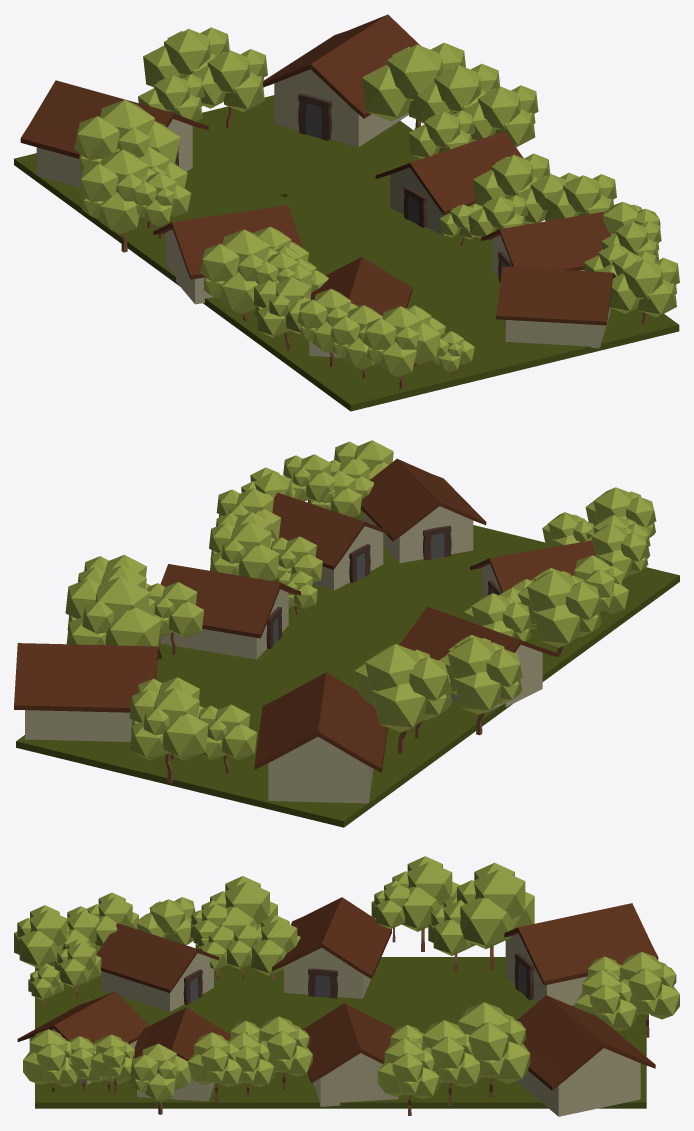
The model's file is saha1.fbx.
3 views of the same model, one above another, from view 1: azimuth 30°, elevation 25°; view 2: azimuth 150°, elevation 25°; view 3: azimuth 270°, elevation 25° (orthographic). The views are drawn at different scales.
Visible parts, largest first — view 1: Cube, Cube.007, Cube.003, Cube.006, Cube.001, Cube.002, Cube.005, Icosphere.031, Icosphere.032, Icosphere.024, Icosphere.021, Icosphere.011 (+25 smaller); view 2: Cube, Cube.006, Cube.007, Cube.003, Cube.001, Icosphere.032, Cube.002, Icosphere.031, Icosphere.028, Icosphere.024, Icosphere.021, Cube.005 (+22 smaller); view 3: Cube, Cube.007, Cube.006, Cube.005, Cube.004, Cube.001, Icosphere.032, Icosphere.031, Cube.003, Cube.002, Icosphere.028, Icosphere.024 (+25 smaller).
Part boxes in pixels (x1,y1,x2,y2): Cube: [14, 95, 679, 411]; Cube.007: [263, 14, 420, 147]; Cube.003: [496, 266, 616, 348]; Cube.006: [20, 80, 208, 187]; Cube.001: [375, 131, 523, 236]; Cube.002: [481, 212, 611, 282]; Cube.005: [153, 205, 302, 304]; Icosphere.031: [362, 42, 465, 128]; Icosphere.032: [74, 100, 180, 171]; Icosphere.024: [78, 149, 157, 252]; Icosphere.021: [200, 229, 279, 321]; Icosphere.011: [363, 306, 441, 389]; Cube: [16, 509, 679, 827]; Cube.006: [254, 672, 387, 803]; Cube.007: [14, 643, 161, 741]; Cube.003: [360, 458, 486, 563]; Cube.001: [160, 564, 300, 659]; Icosphere.032: [354, 644, 450, 753]; Cube.002: [272, 492, 393, 590]; Icosphere.031: [65, 576, 160, 646]; Icosphere.028: [129, 688, 208, 783]; Icosphere.024: [438, 637, 522, 735]; Icosphere.021: [517, 570, 601, 656]; Cube.005: [399, 606, 556, 712]; Cube: [35, 957, 646, 1108]; Cube.007: [516, 995, 655, 1116]; Cube.006: [504, 903, 658, 1005]; Cube.005: [272, 897, 391, 998]; Cube.004: [96, 923, 219, 1011]; Cube.001: [302, 1003, 398, 1106]; Icosphere.032: [457, 862, 534, 970]; Icosphere.031: [458, 1002, 530, 1097]; Cube.003: [17, 991, 148, 1084]; Cube.002: [133, 1007, 230, 1101]; Icosphere.028: [619, 951, 679, 1037]; Icosphere.024: [392, 856, 459, 951].
Size of the model in its own units: 3192 by 1083 by 4549.
